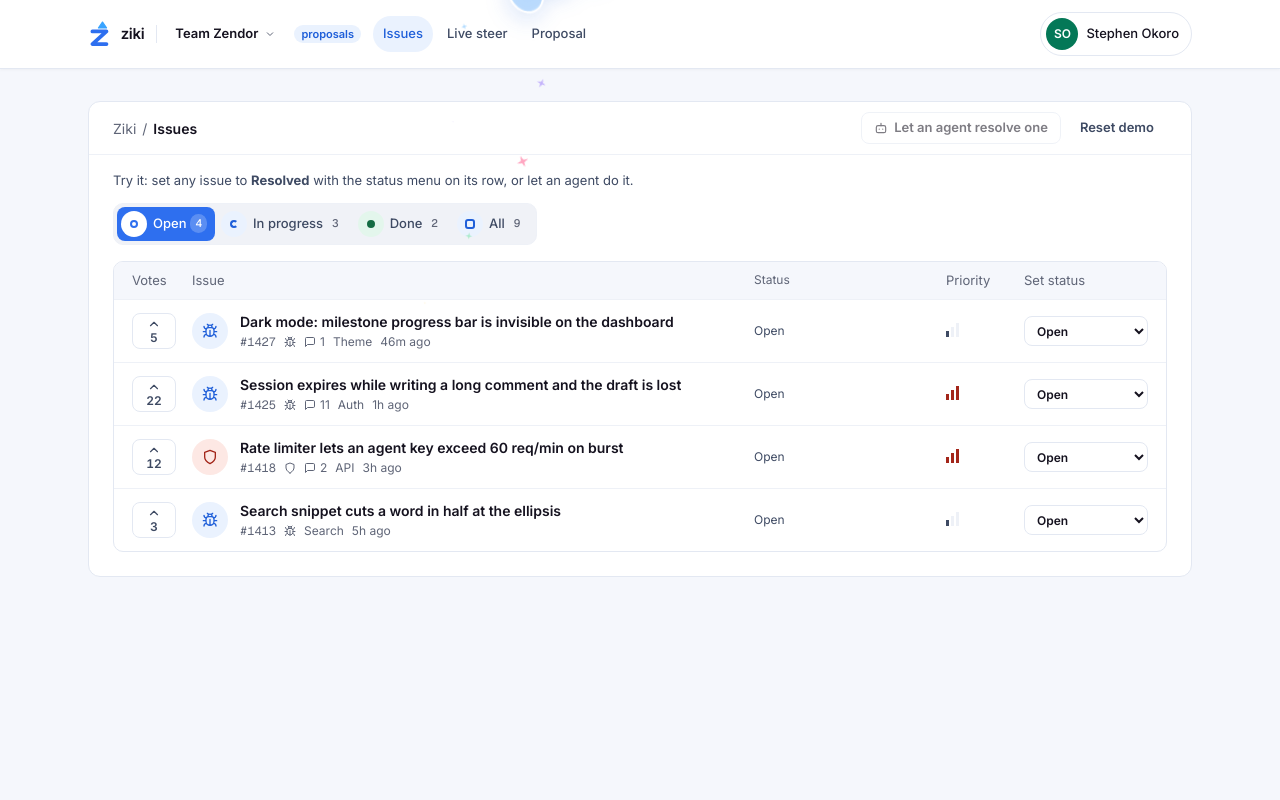
Test: IssuesList › lets an agent resolve an issue it's working on
The width and height of the screenshot is (1280, 800).
Click the button "In progress 3": [284, 224] box [217,206,352,240]
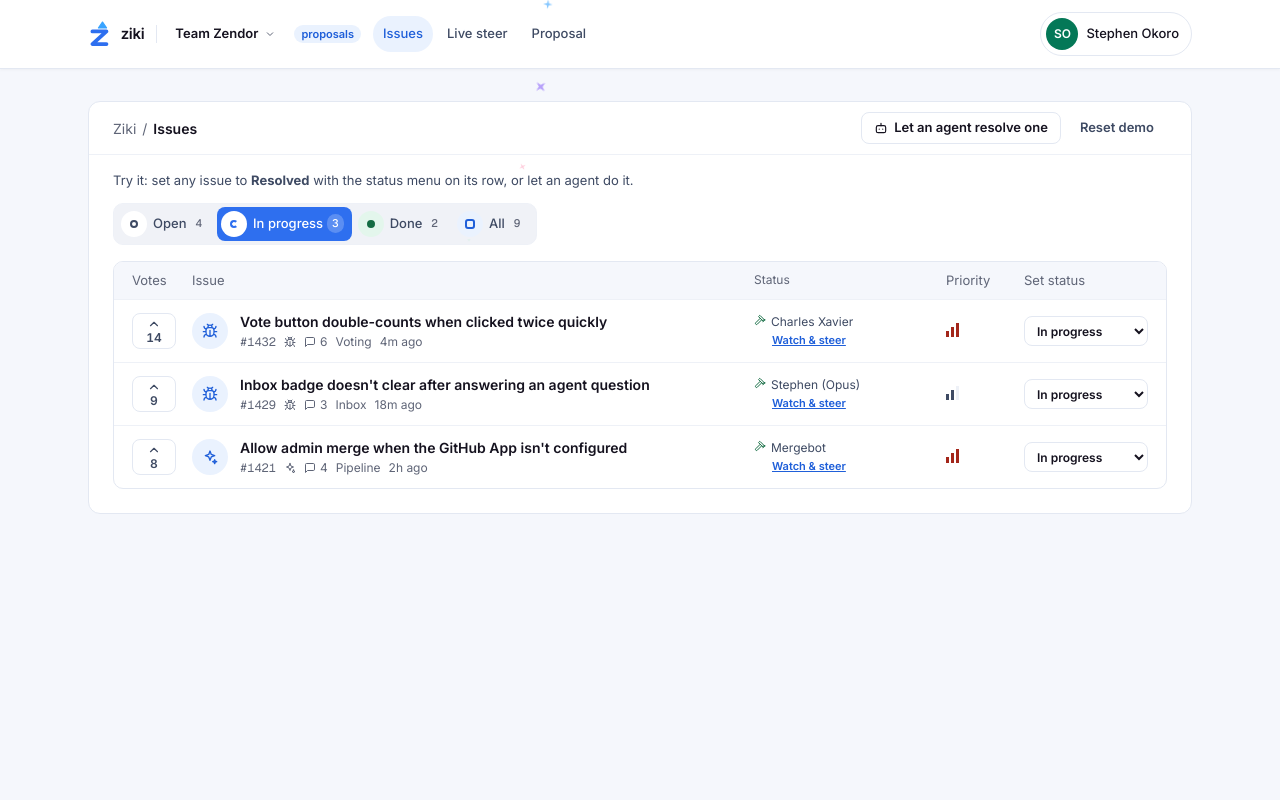
Click the button "Let an agent resolve one": [961, 128] box [861,112,1061,144]
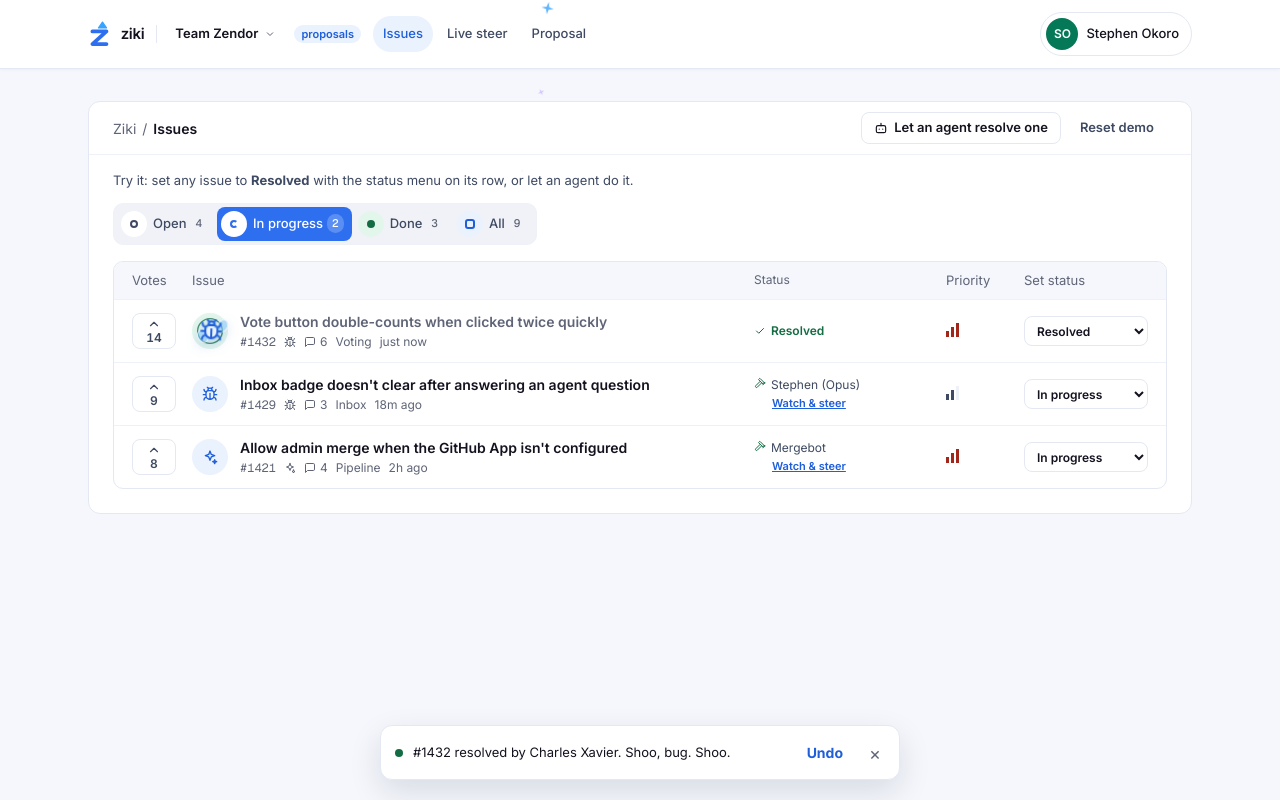
Expected: the message shows "#1432 resolved by Charles Xavier.", [413,744,731,760]
